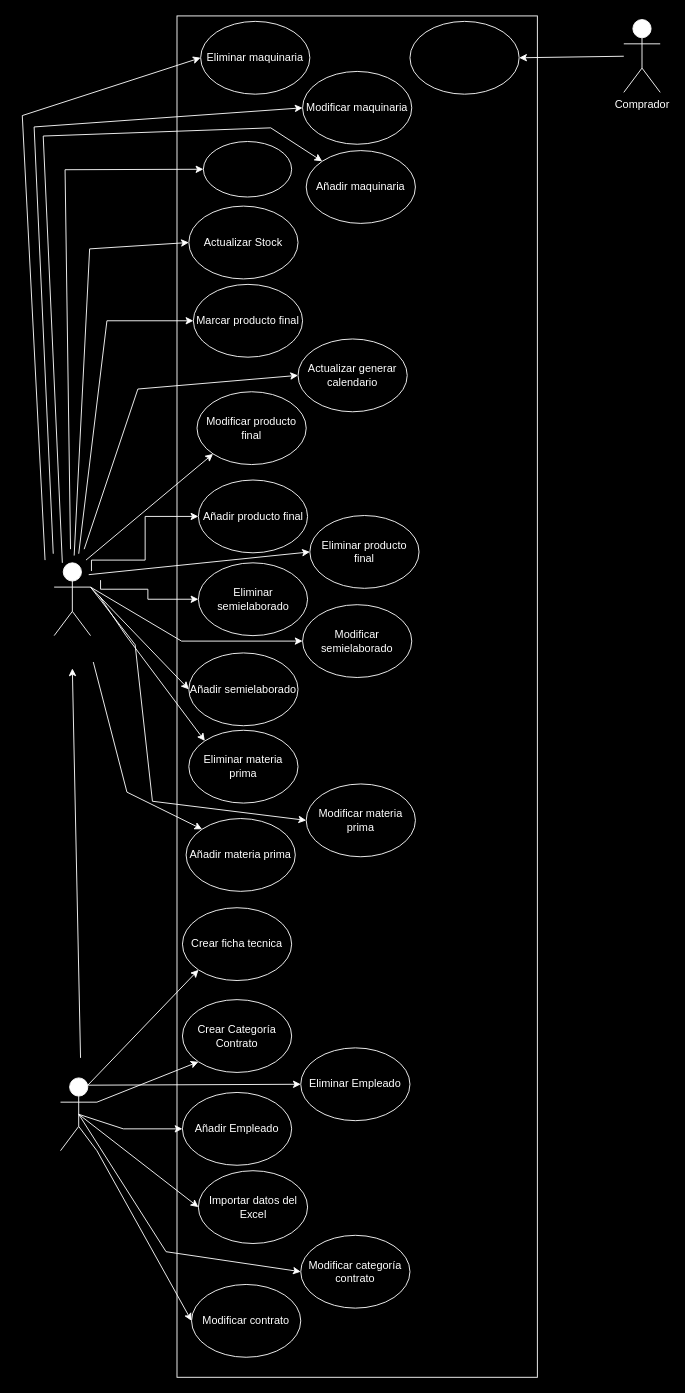
The diagram is 685 pixels wide and 1393 high, and some of its shapes have lost their labels. Each missing label, with the box of its shape:
Añadir Pedidos: (409, 20, 519, 94)
Directivo: (60, 1077, 97, 1151)
Empleado Producción: (53, 562, 91, 636)
Generar Calendario: (202, 141, 292, 197)
